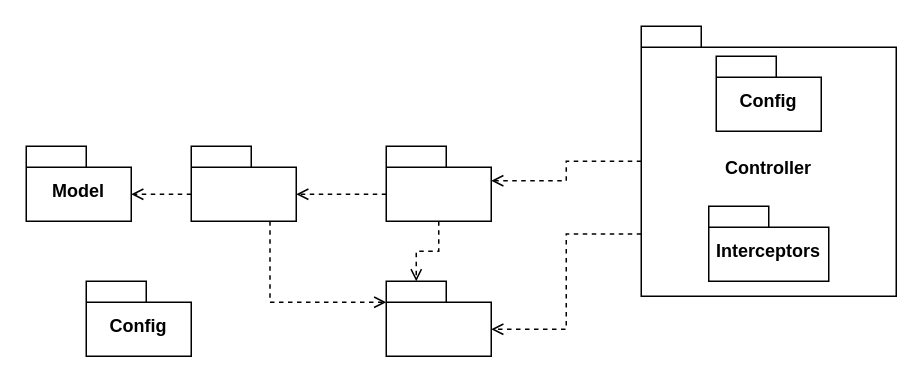
The diagram is 923 pixels wide and 383 high, and some of its shapes have lost their labels. The centre of each missing label's shape, as x and y in pixels:
Exception: (438,318)
Repository: (243,183)
Service: (438,183)
